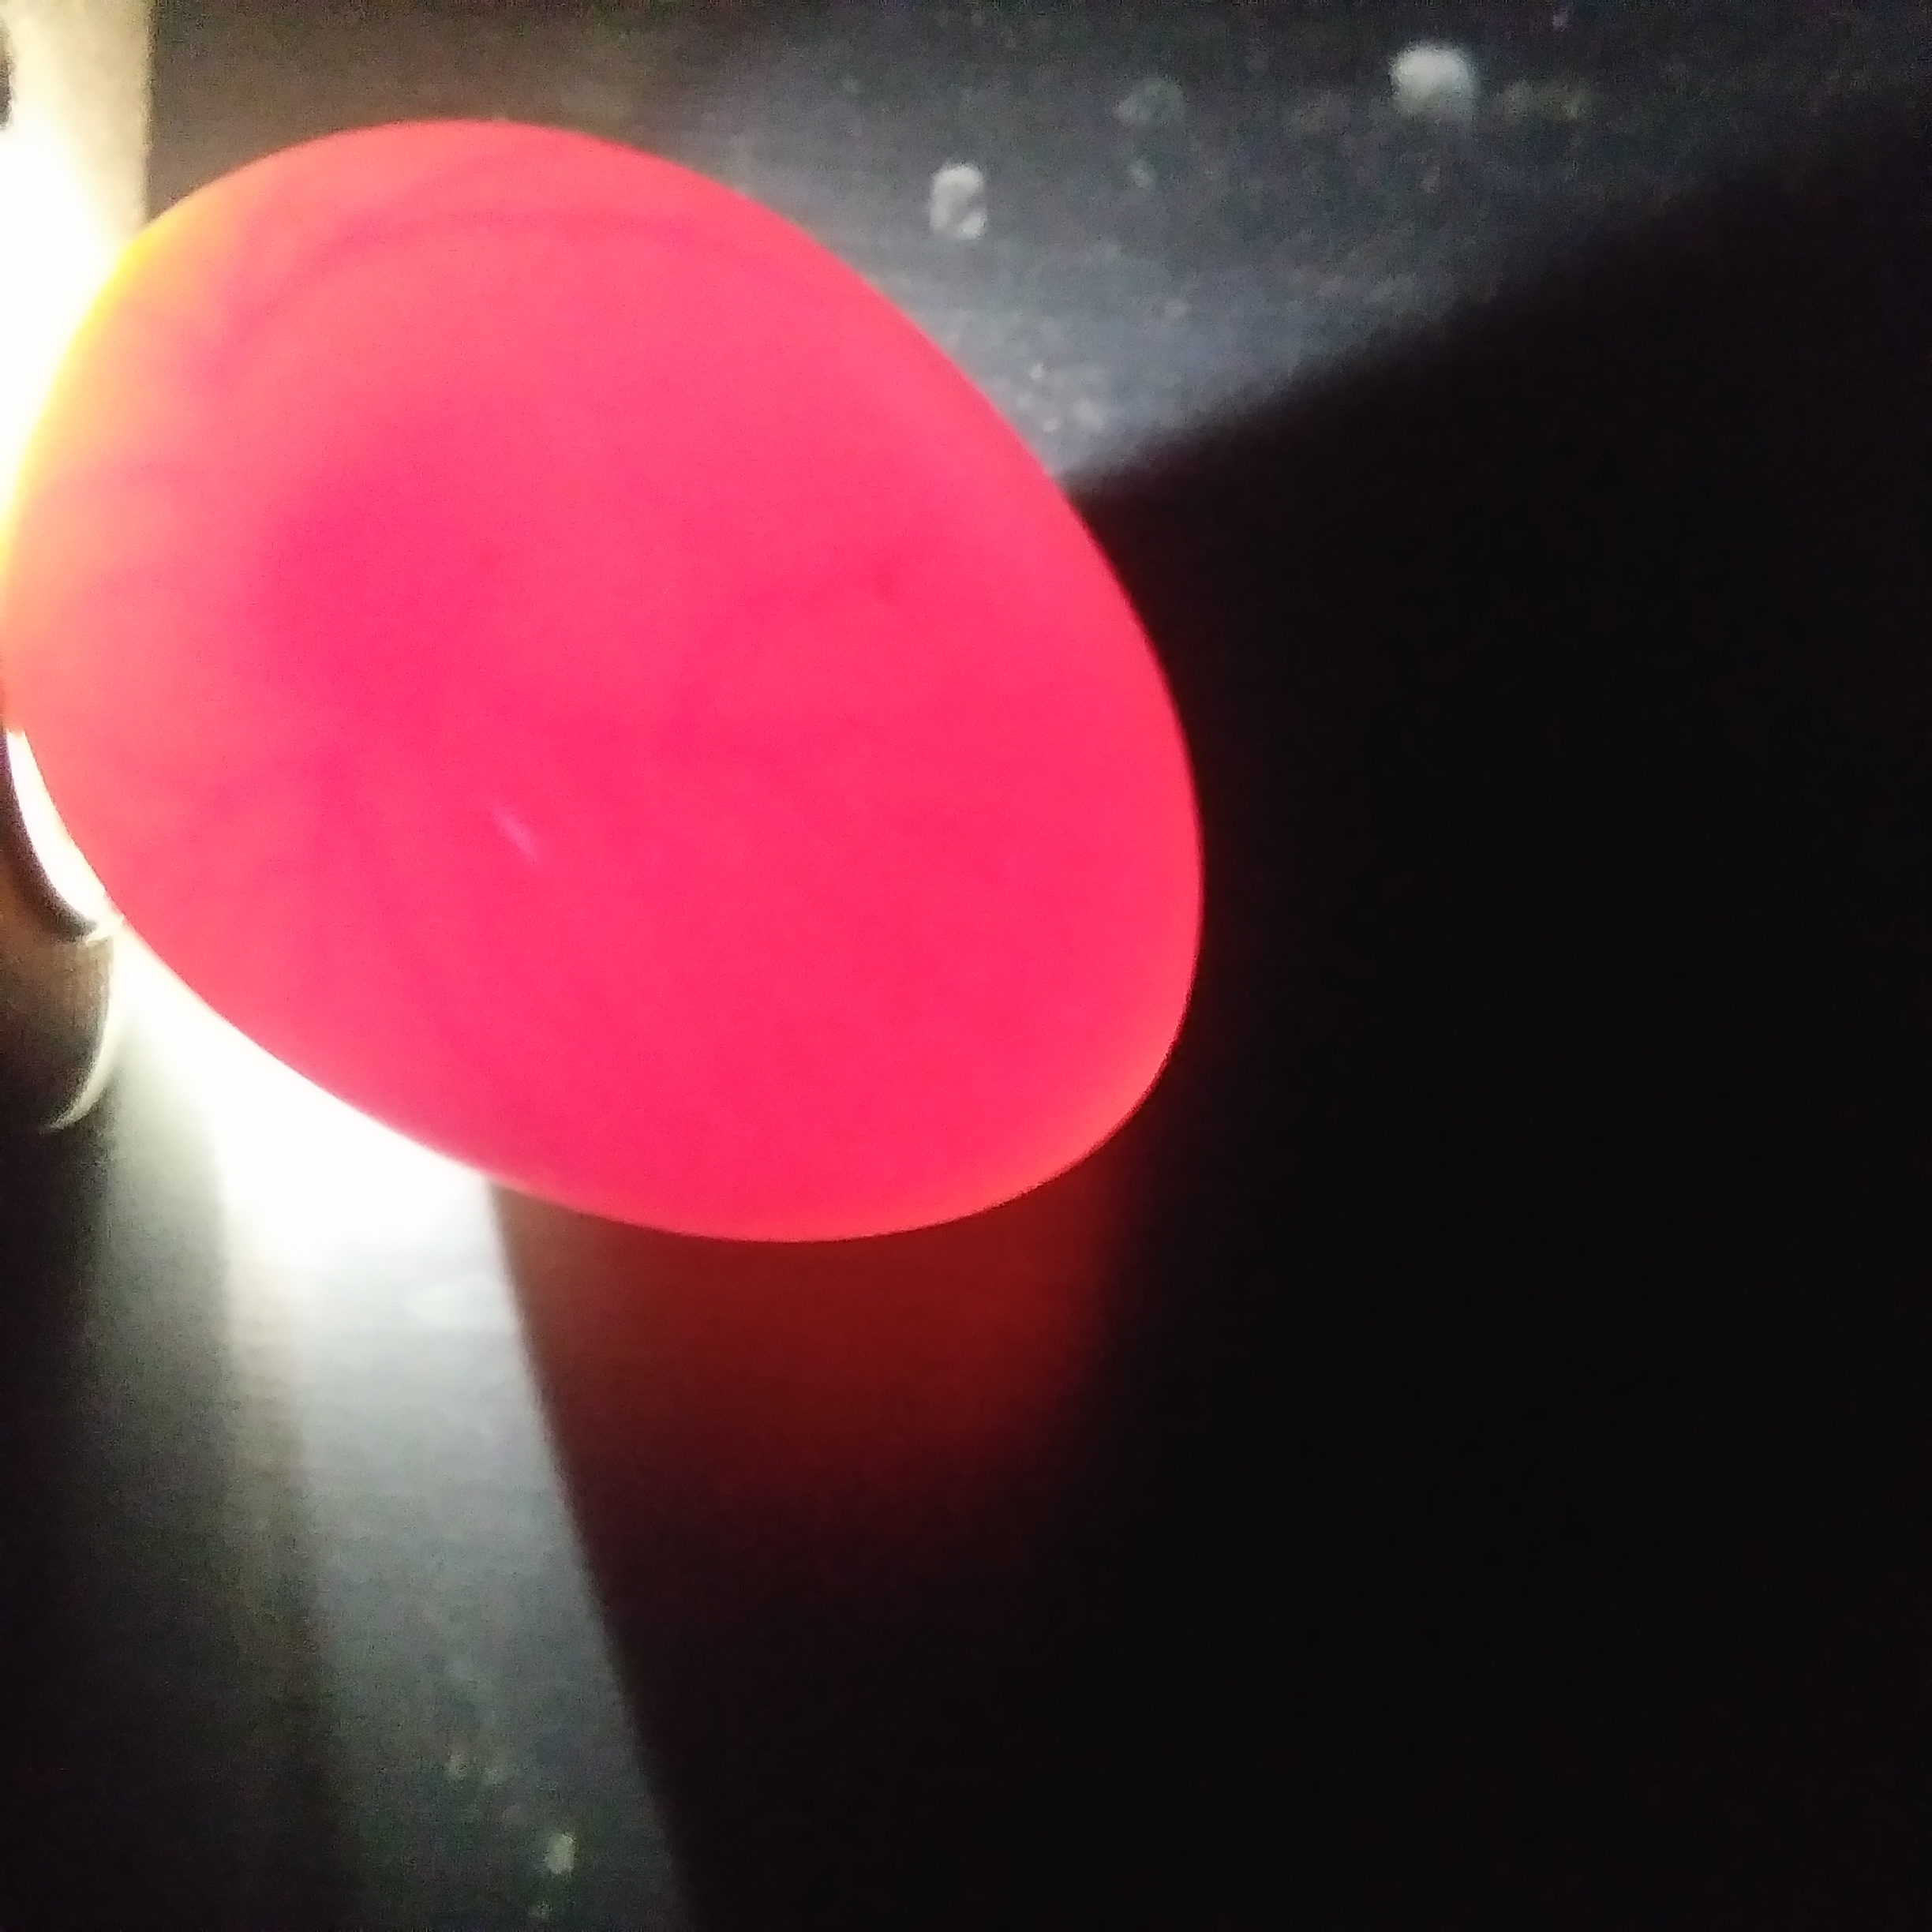bloodcell: (175, 219, 458, 444), (87, 485, 177, 690)
